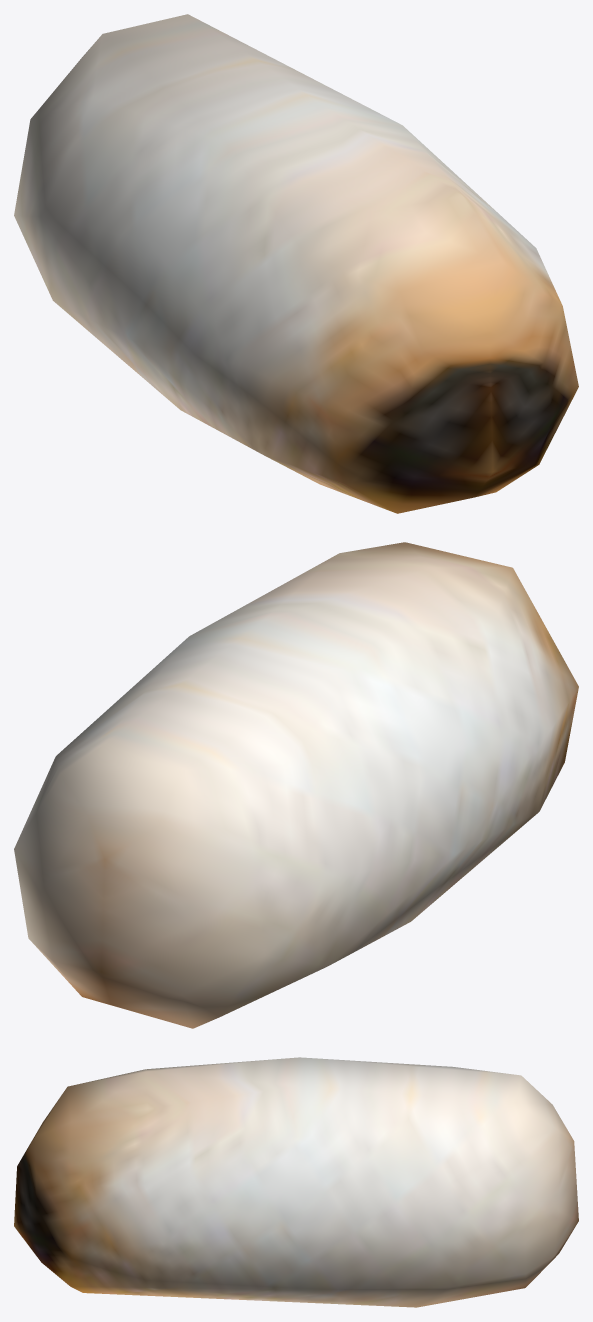
Rendered from yumurta.fbx.
3 renders of one model, top to bottom at view 1: azimuth 30°, elevation 25°; view 2: azimuth 150°, elevation 25°; view 3: azimuth 270°, elevation 25°, orthographic. The views are drawn at different scales.
Parts seen in each view (by area): view 1: yumurta; view 2: yumurta; view 3: yumurta.
Boxes of the visible parts, bbox=[...] form: yumurta: bbox=[14, 14, 578, 513]; yumurta: bbox=[14, 542, 578, 1028]; yumurta: bbox=[14, 1057, 578, 1307].
Bounding box in the file's own units: 1.25 × 1.06 × 2.61.
1 material, 1 textured.
